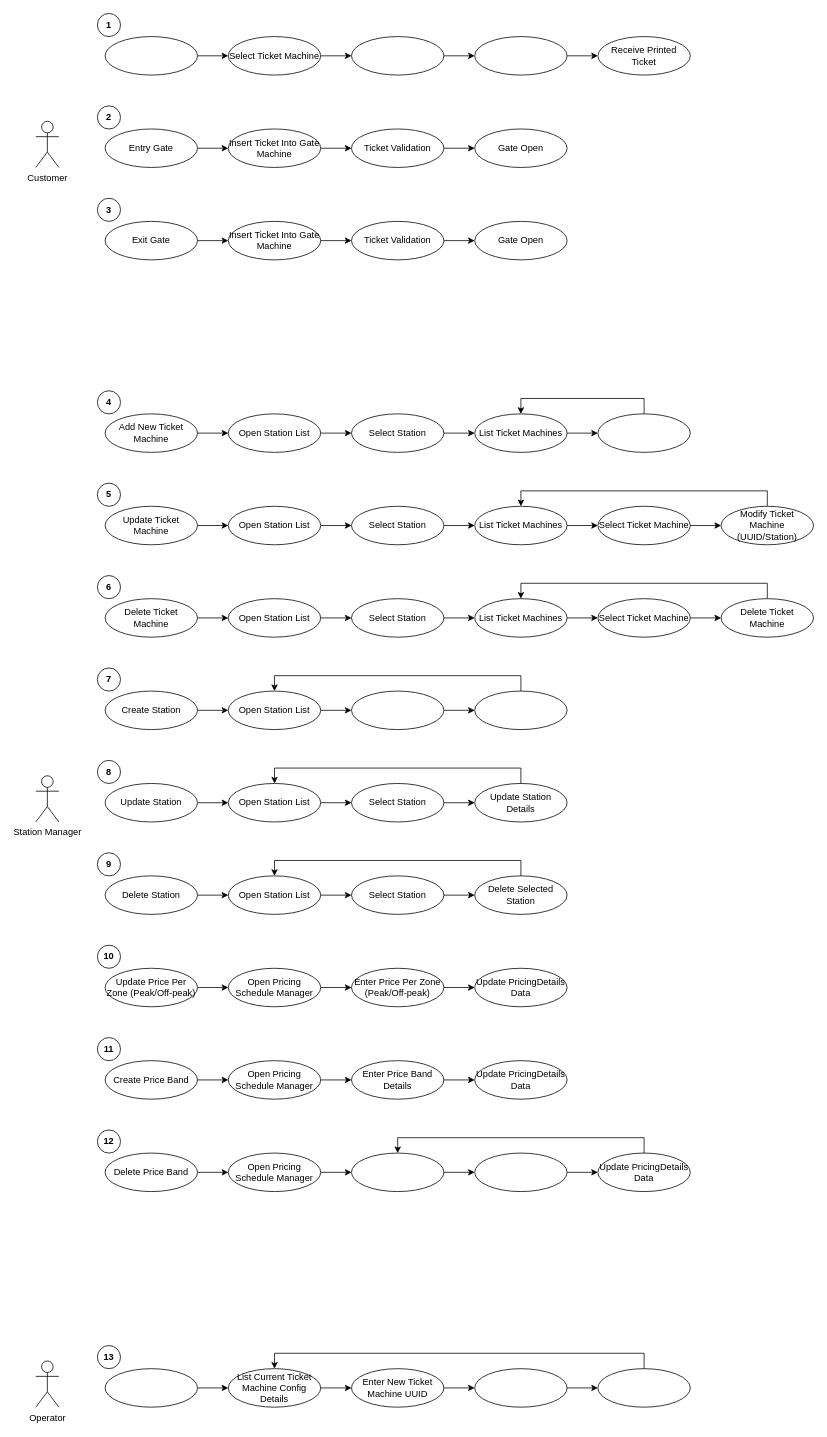
The diagram is 827 pixels wide and 1437 high, and some of its shapes have lost their labels. The box of each missing label's shape, as (x1, y1, x2, y2) in pixels:
Add Ticket Machine: (597, 413, 690, 452)
Alter Station Default Details: (474, 690, 567, 730)
Change Ticket Machine Configuration: (104, 1368, 198, 1407)
Create New Station: (351, 690, 444, 730)
Create New Ticket: (104, 36, 198, 75)
Make Payment: (474, 36, 567, 75)
Price Band List: (351, 1152, 444, 1192)
Recieve Ticket Machine Configuration: (597, 1368, 690, 1407)
ReST Call with UUID: (474, 1368, 567, 1407)
Select Destination Station: (351, 36, 444, 75)
Select Price Band to Delete: (474, 1152, 567, 1192)
